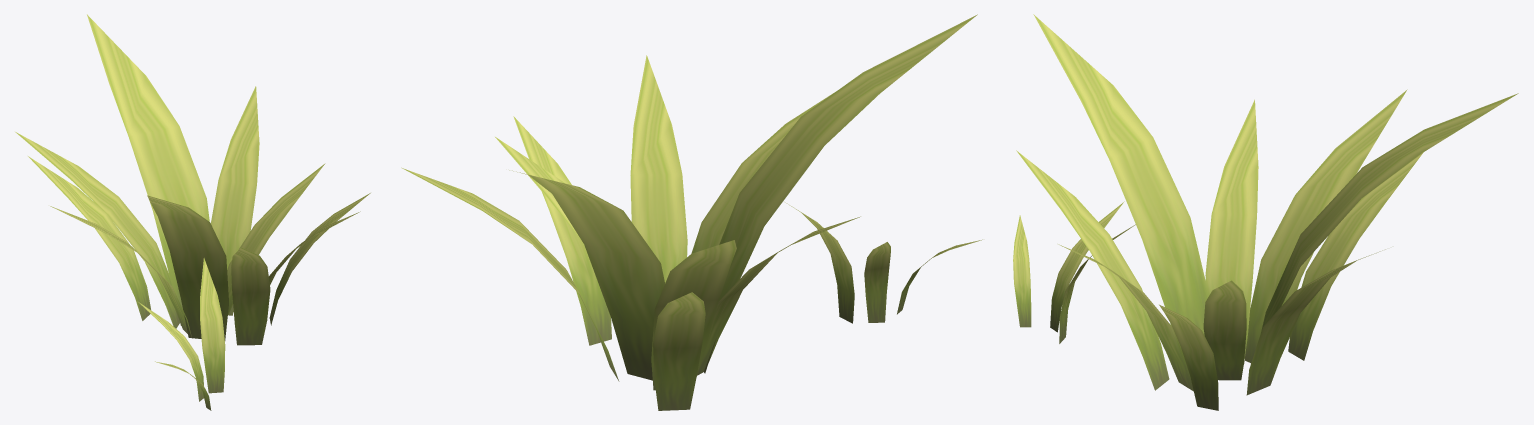
The model's file is grass1.fbx.
3 renders of one model, left to right at view 1: azimuth 30°, elevation 25°; view 2: azimuth 150°, elevation 25°; view 3: azimuth 270°, elevation 25°, orthographic. The views are drawn at different scales.
Parts seen in each view (by area): view 1: Plane.004; view 2: Plane.004; view 3: Plane.004.
Part boxes in pixels (x1,y1,x2,y2): Plane.004: (15, 14, 370, 410); Plane.004: (401, 14, 982, 410); Plane.004: (1013, 14, 1518, 410).
Size of the model in its own units: 102 by 78.41 by 128.
